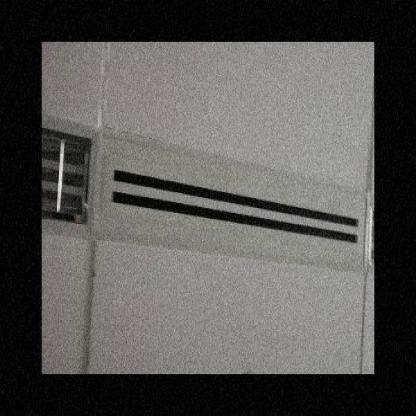light_off: (42, 97, 106, 251)
